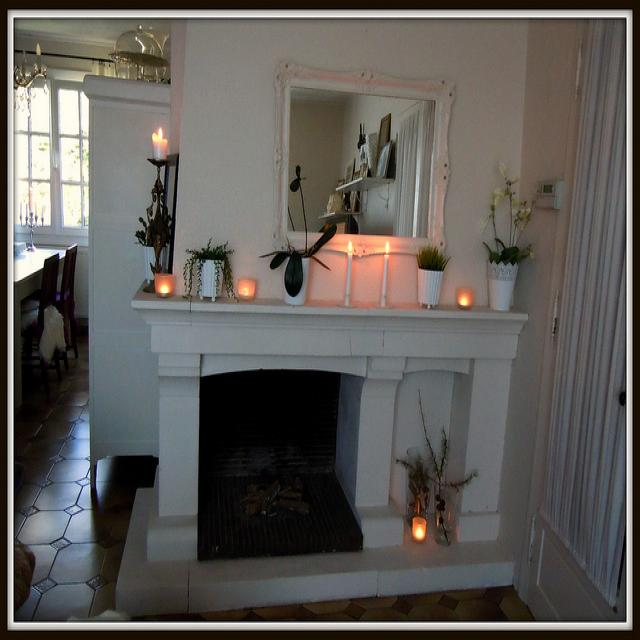chair: (22, 252, 62, 397), (58, 240, 78, 371)
dining table: (14, 248, 66, 408)
